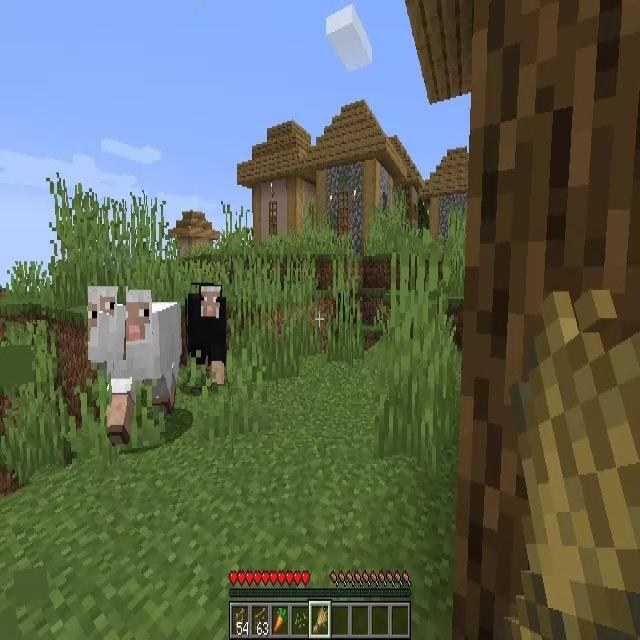sheep: (112, 293, 182, 443), (187, 285, 226, 386), (88, 286, 126, 360)
